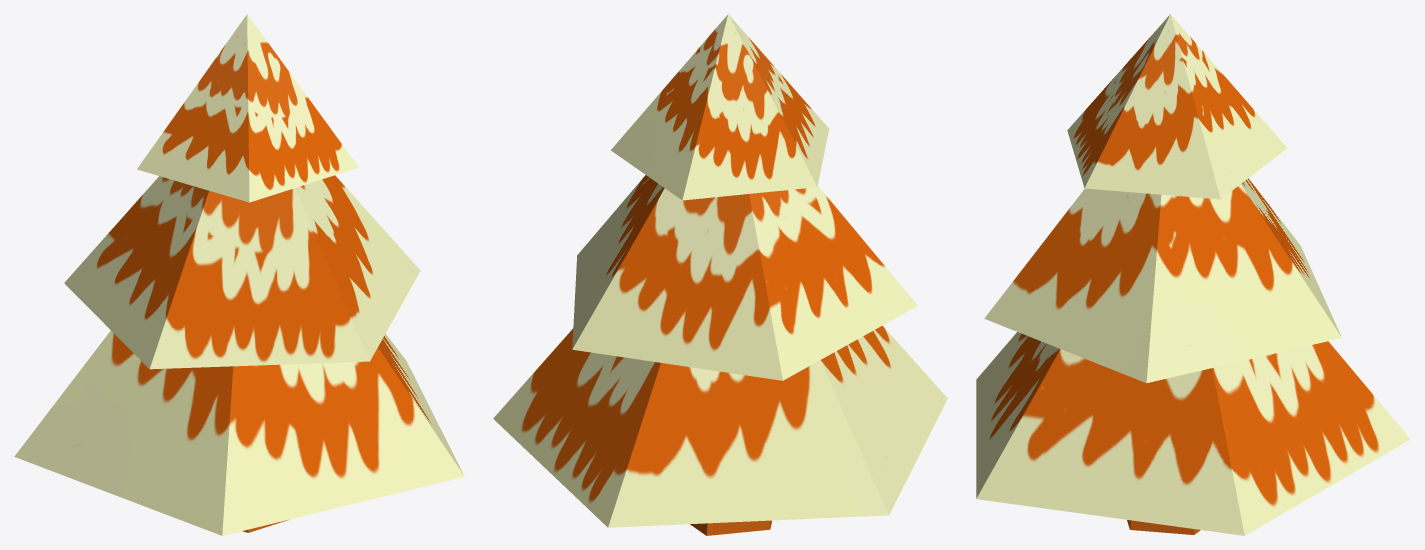
Rendered from tree_fir.obj.
3 renders of one model, left to right at view 1: azimuth 30°, elevation 25°; view 2: azimuth 150°, elevation 25°; view 3: azimuth 270°, elevation 25°, orthographic.
Parts seen in each view (by area): view 1: Cone; view 2: Cone; view 3: Cone.
Boxes of the visible parts, <box> form: Cone: <box>14,14,464,535</box>; Cone: <box>493,14,947,535</box>; Cone: <box>976,14,1410,535</box>.
Bounding box in the file's own units: 1.9 × 2.3 × 1.81.
